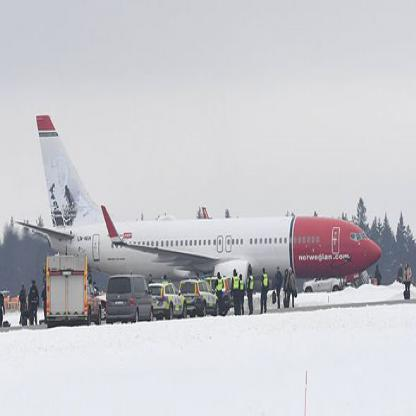CIV_Plane: (9, 102, 386, 306)
